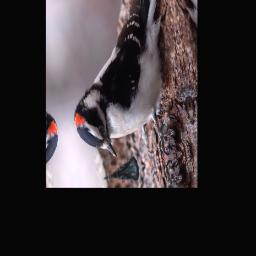Woodpecker: (53, 0, 189, 172)
